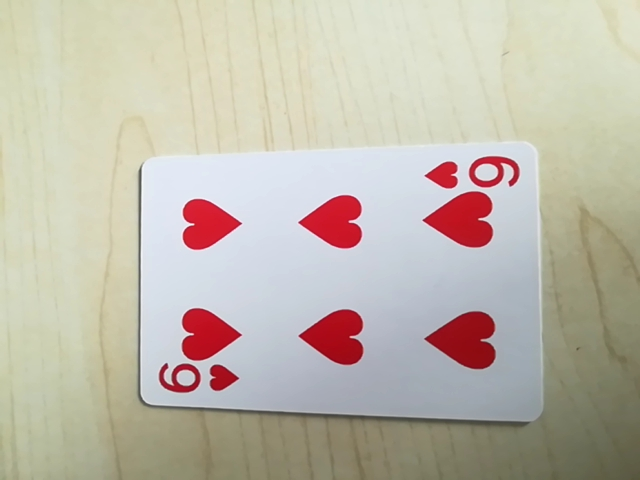hx 6: (418, 152, 523, 196), (154, 359, 242, 403)
